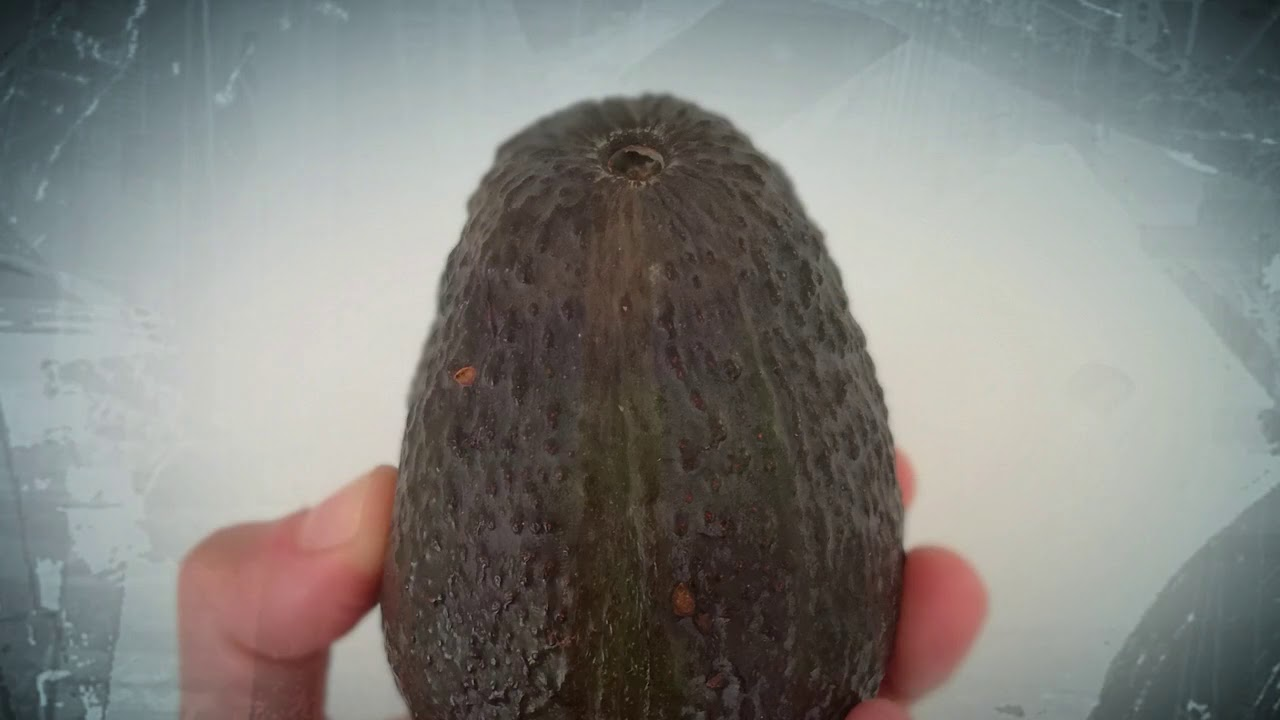fit_avocado: (350, 66, 917, 720)
